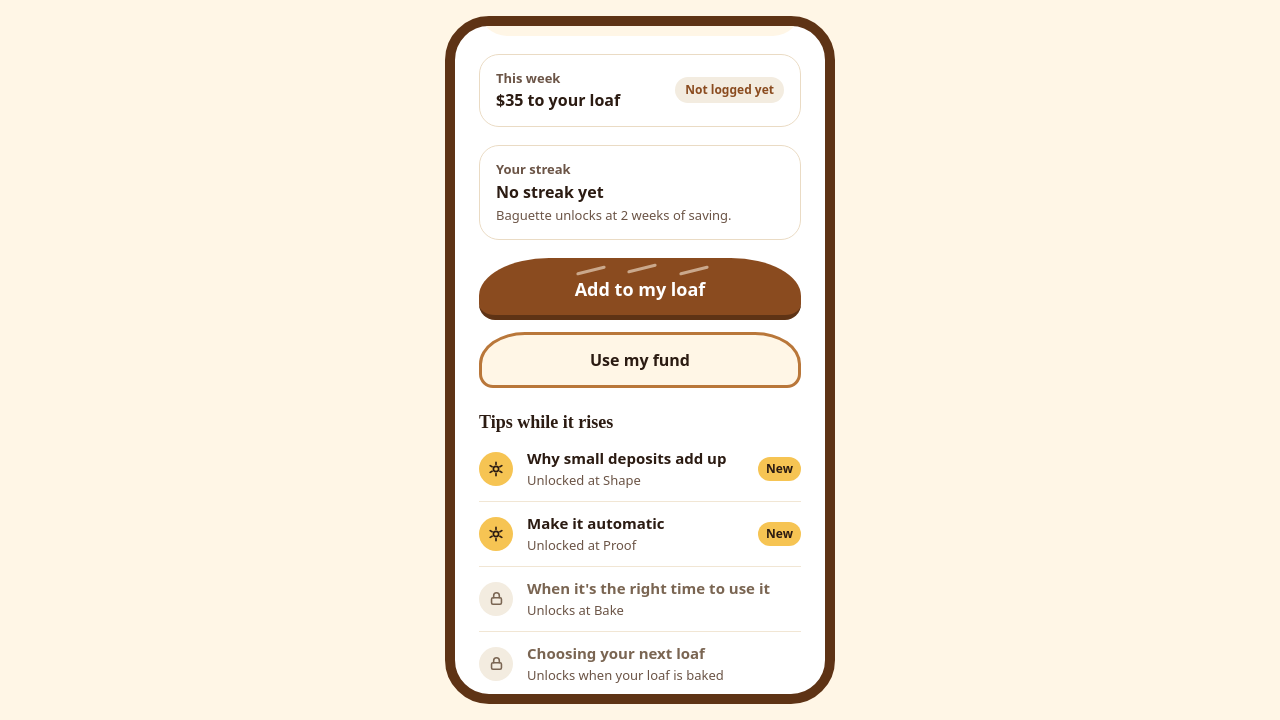
use my fund › tells them what is available when they ask for more than the fund holds
(page scrolled)
Step 1. Click the button "Use my fund" → click(640, 360), box [479,332,801,388]
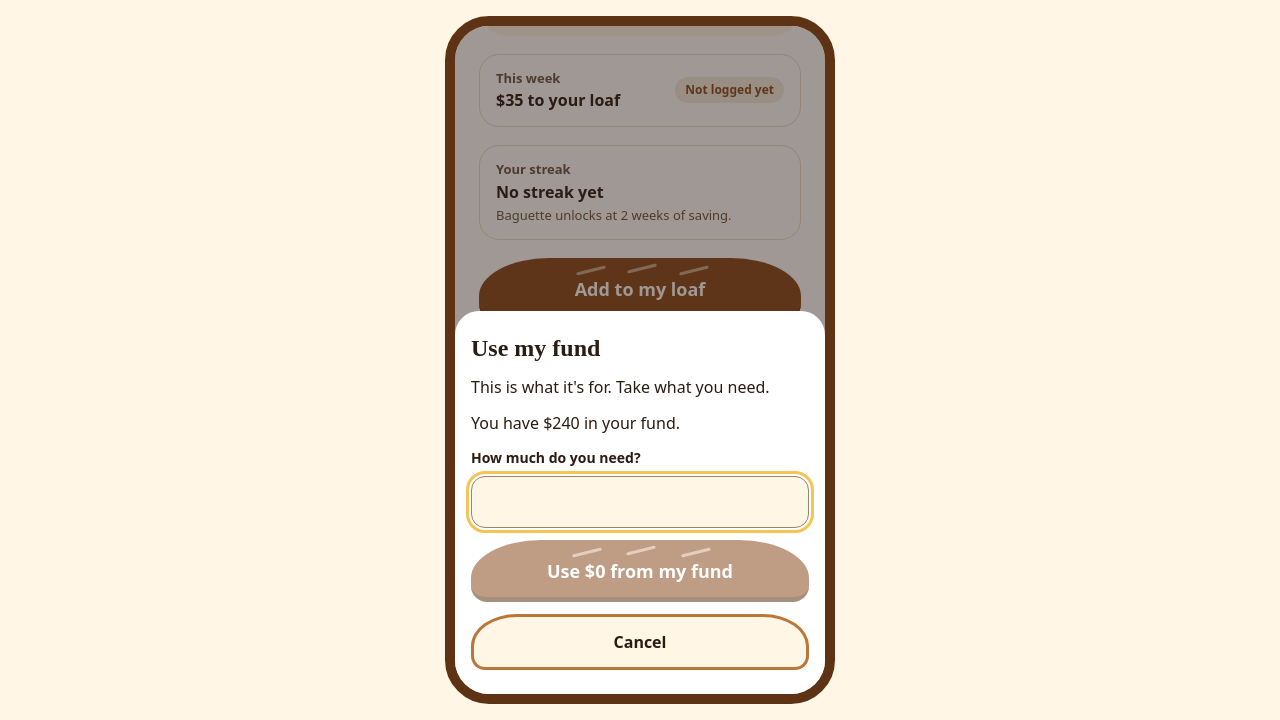
Step 2. Type "300" into the field labelled "How much do you need?" → (640, 502), box [471,476,809,528]
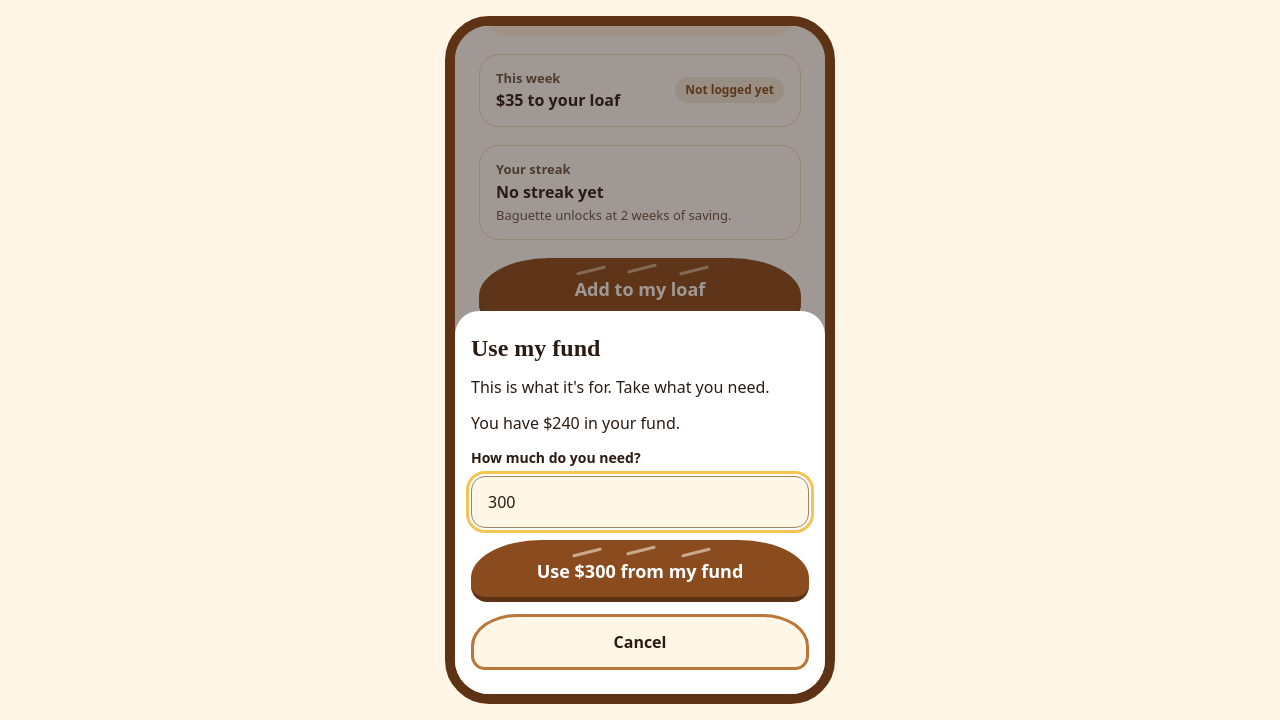
Step 3. Click the button "Use $300 from my fund" → click(640, 571), box [471,540,809,602]
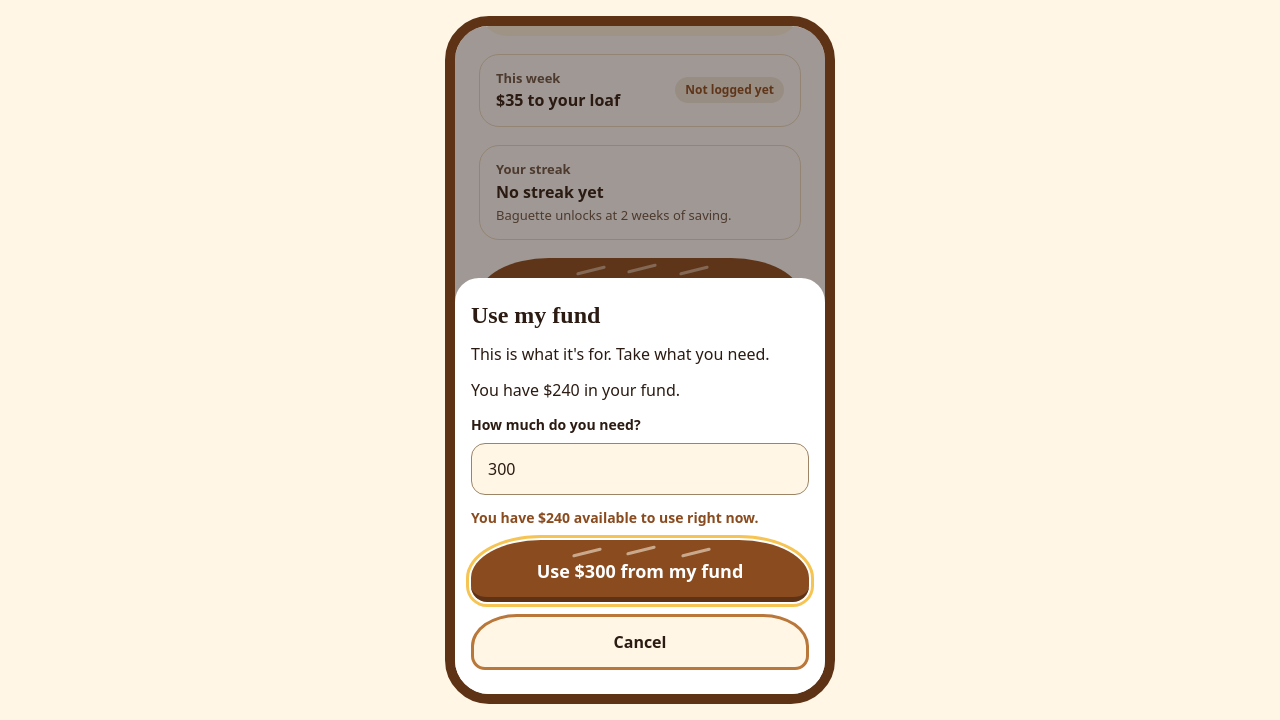
Result: the dialog is shown at [455,26,825,694]
Result: the message reads "You have $240 available to use right now." at [471,508,758,527]
